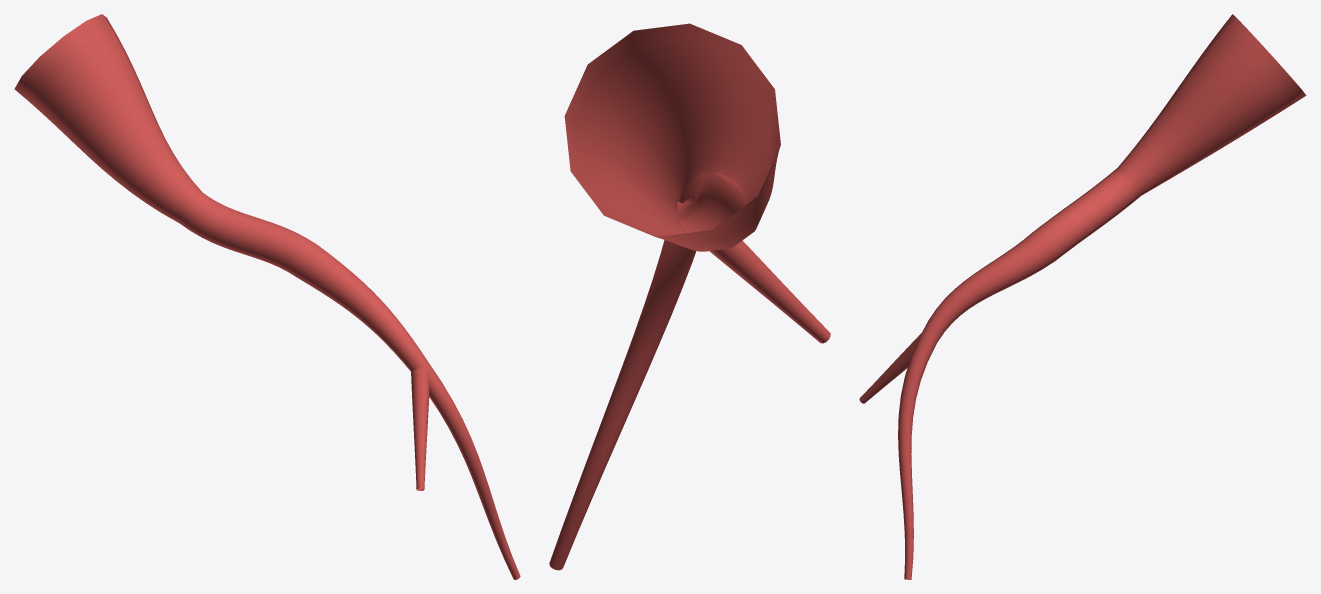
The picture shows the model from 3 angles, left to right: view 1: azimuth 30°, elevation 25°; view 2: azimuth 150°, elevation 25°; view 3: azimuth 270°, elevation 25°; orthographic projection. The views are drawn at different scales.
Parts seen in each view (by area): view 1: 胃左动脉; view 2: 胃左动脉; view 3: 胃左动脉.
Part boxes in pixels (x1,y1,x2,y2): 胃左动脉: [14, 14, 520, 579]; 胃左动脉: [549, 23, 830, 570]; 胃左动脉: [859, 14, 1306, 579].
Size of the model in its own units: 0.0266 by 0.0398 by 0.0359.
